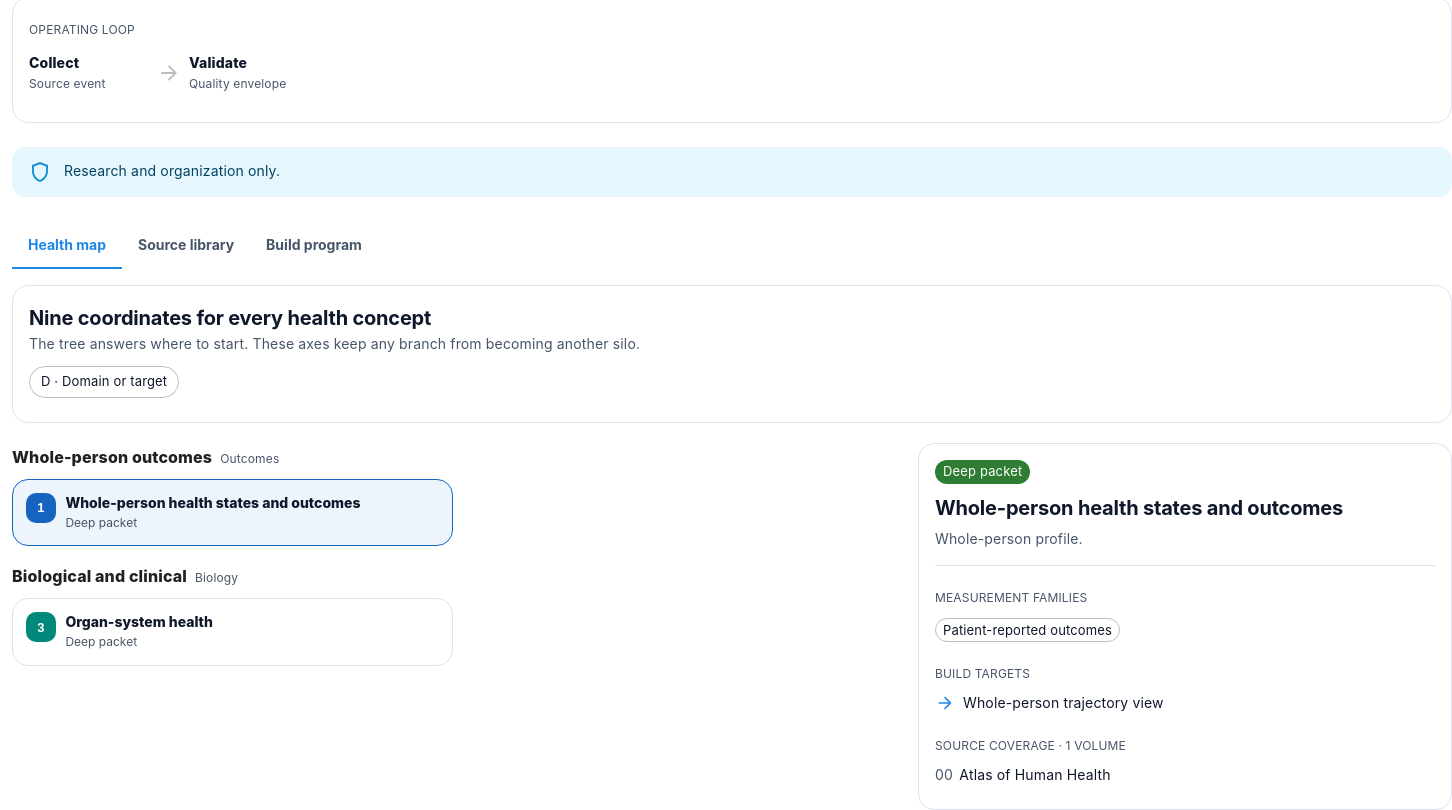
Test: AtlasPage › renders source-backed summary and lets the user inspect a branch
(page scrolled)
Click the button "3 Organ-system health Deep packet" at (139, 622), box [13,599,452,665]
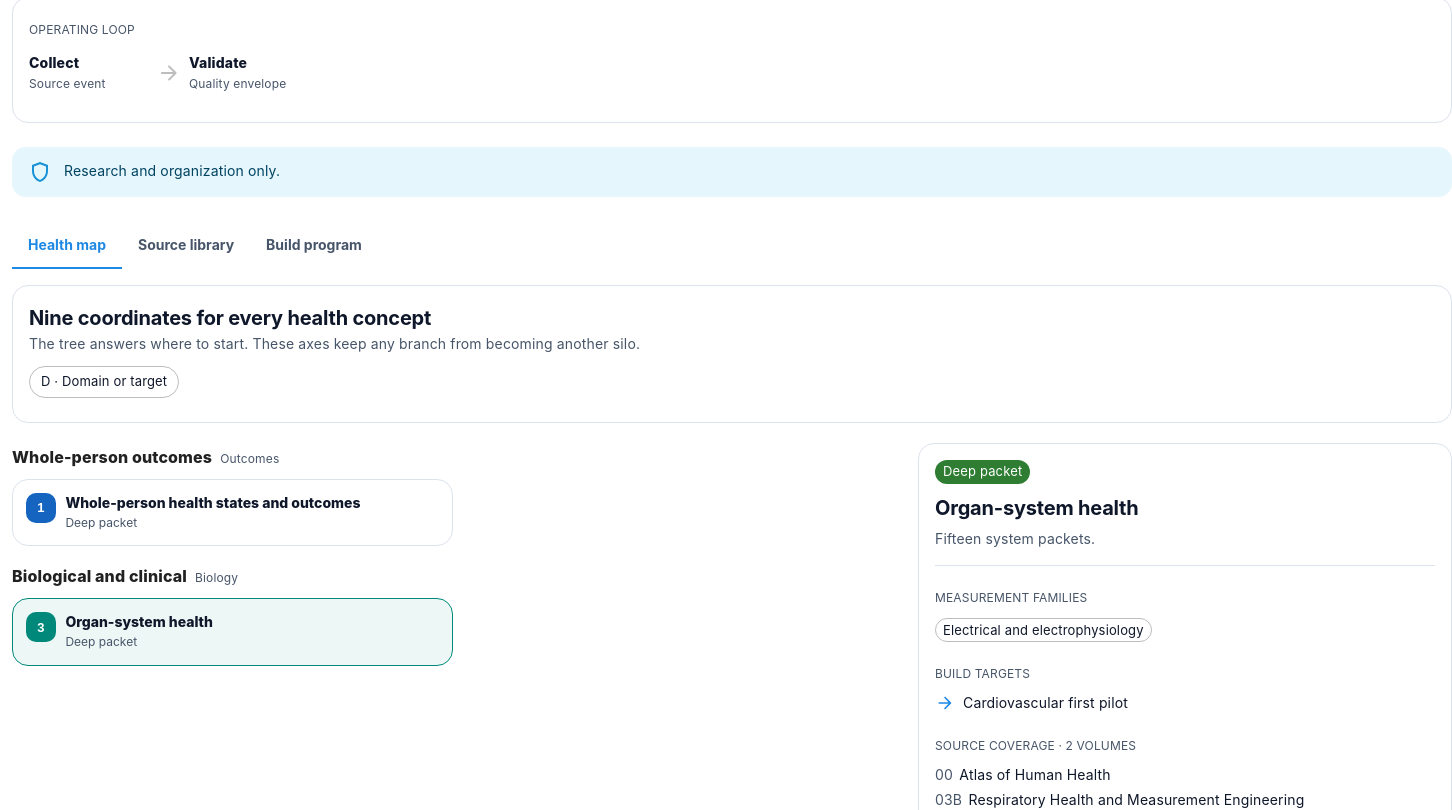
Result: the text "Fifteen system packets." is shown at [935,530,1095,548]
Result: the text "Cardiovascular first pilot" is shown at [963,694,1128,714]
Result: the text "Source coverage · 2 volumes" is shown at [935,738,1136,752]
